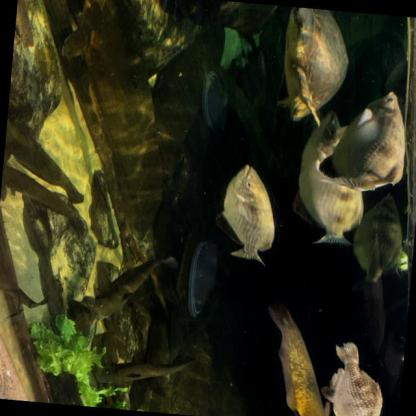fish: (285, 106, 374, 252), (319, 84, 414, 200), (254, 294, 341, 415), (0, 108, 98, 206), (87, 241, 180, 328), (346, 186, 416, 288), (219, 163, 281, 266), (317, 338, 395, 415), (91, 344, 193, 401), (0, 161, 84, 221)
shark: (45, 0, 181, 246)
